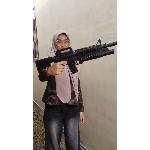Senapan: (36, 33, 117, 79)
